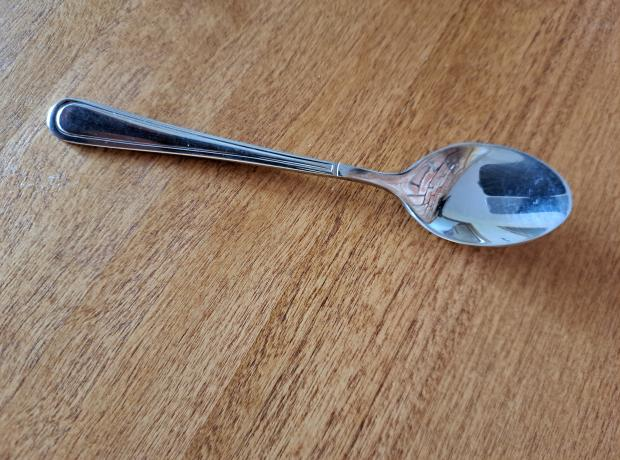metal: (48, 98, 575, 250)
